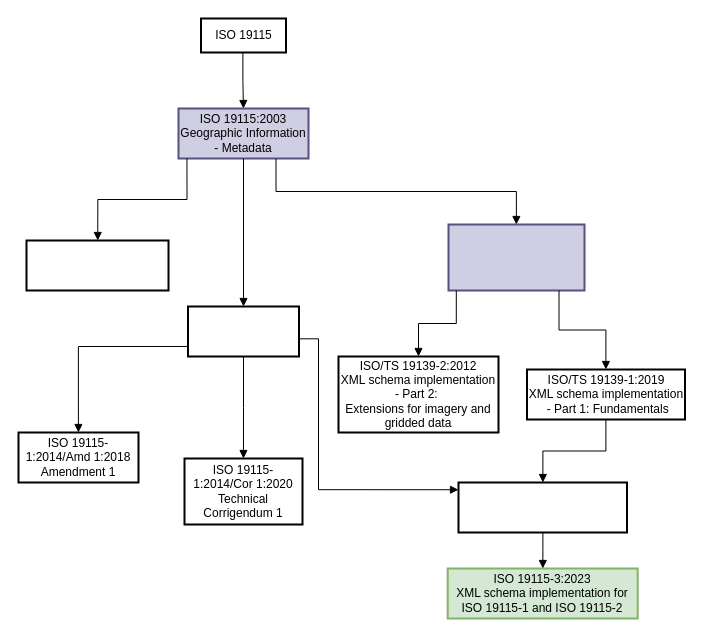
Some shapes in this 703 by 636 pixel diagram are drawn without their labels. Each missing label, with the centre of its shape:
ISO 19115-1:2014 Fundamentals: pixel 243 331
ISO 19115-2:2009 Extensions for imagery and gridded data: pixel 97 265
ISO 19115-3:2016 XML schema implementation for ISO 19115-1: pixel 542 507
ISO/TS 19139:2007 XML schema implementation of ISO 19115:2003: pixel 516 257
